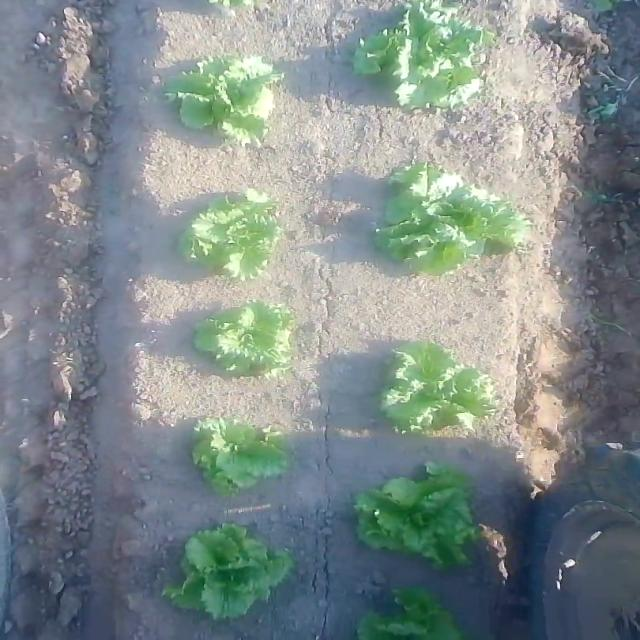Lettuce-Ready-to-Harvest: (378, 162, 521, 279), (338, 0, 478, 119), (354, 471, 501, 568), (163, 524, 294, 624), (161, 55, 283, 137), (198, 299, 308, 386)
